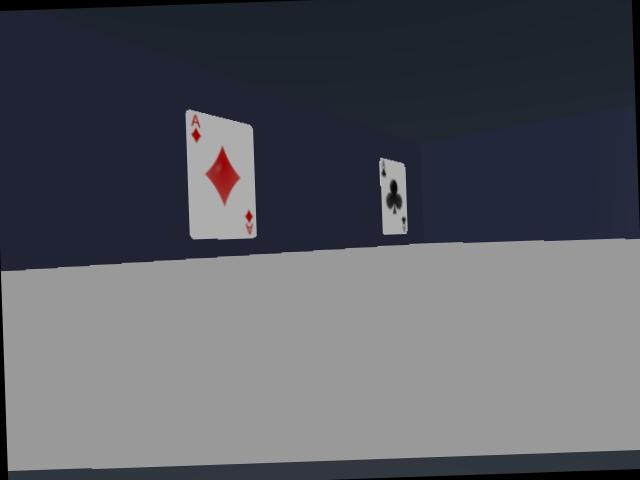club: (379, 159, 407, 234)
diamond: (186, 110, 256, 239)
